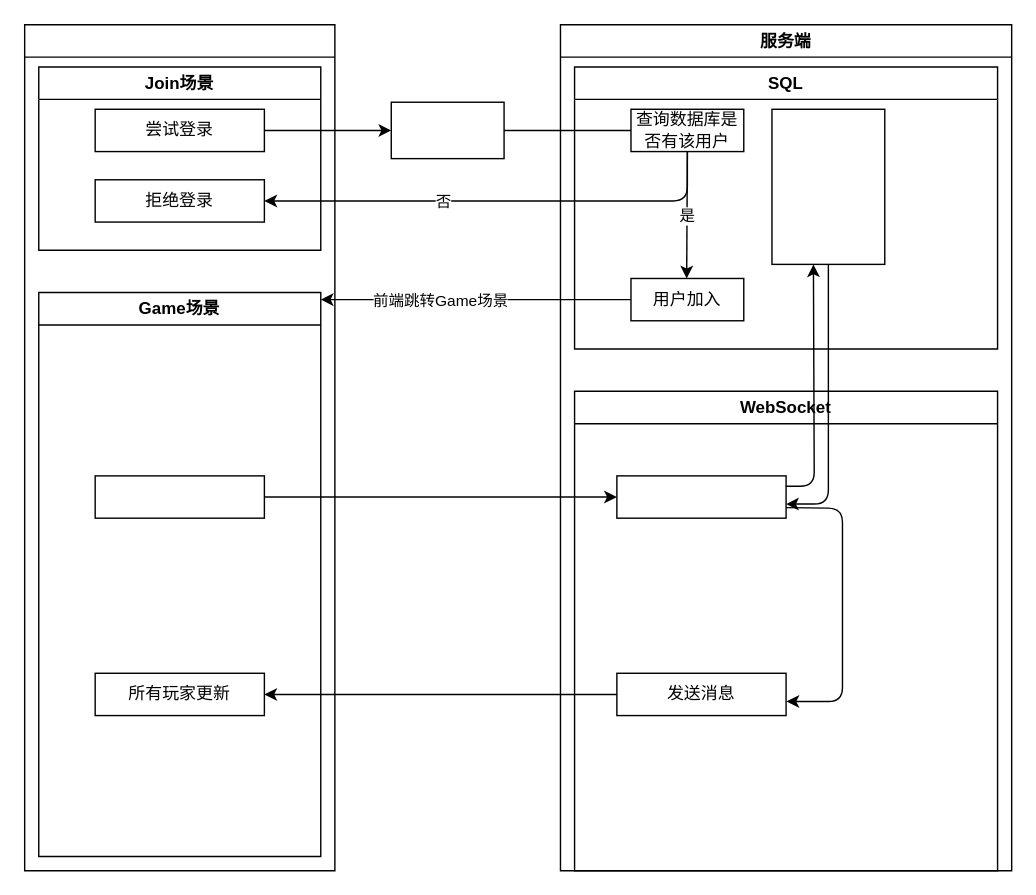
Some shapes in this 1036 by 895 pixel diagram are drawn without their labels. Each missing label, with the box of its shape:
http api/joinGame {id:string}: (390, 101, 504, 159)
任意一方下棋: (94, 474, 264, 518)
修改游戏信息 输入/输出:{blackId, whiteId, currentTurn, boardState}: (771, 108, 885, 264)
客户端: (23, 23, 335, 871)
接受消息: (615, 474, 786, 518)
